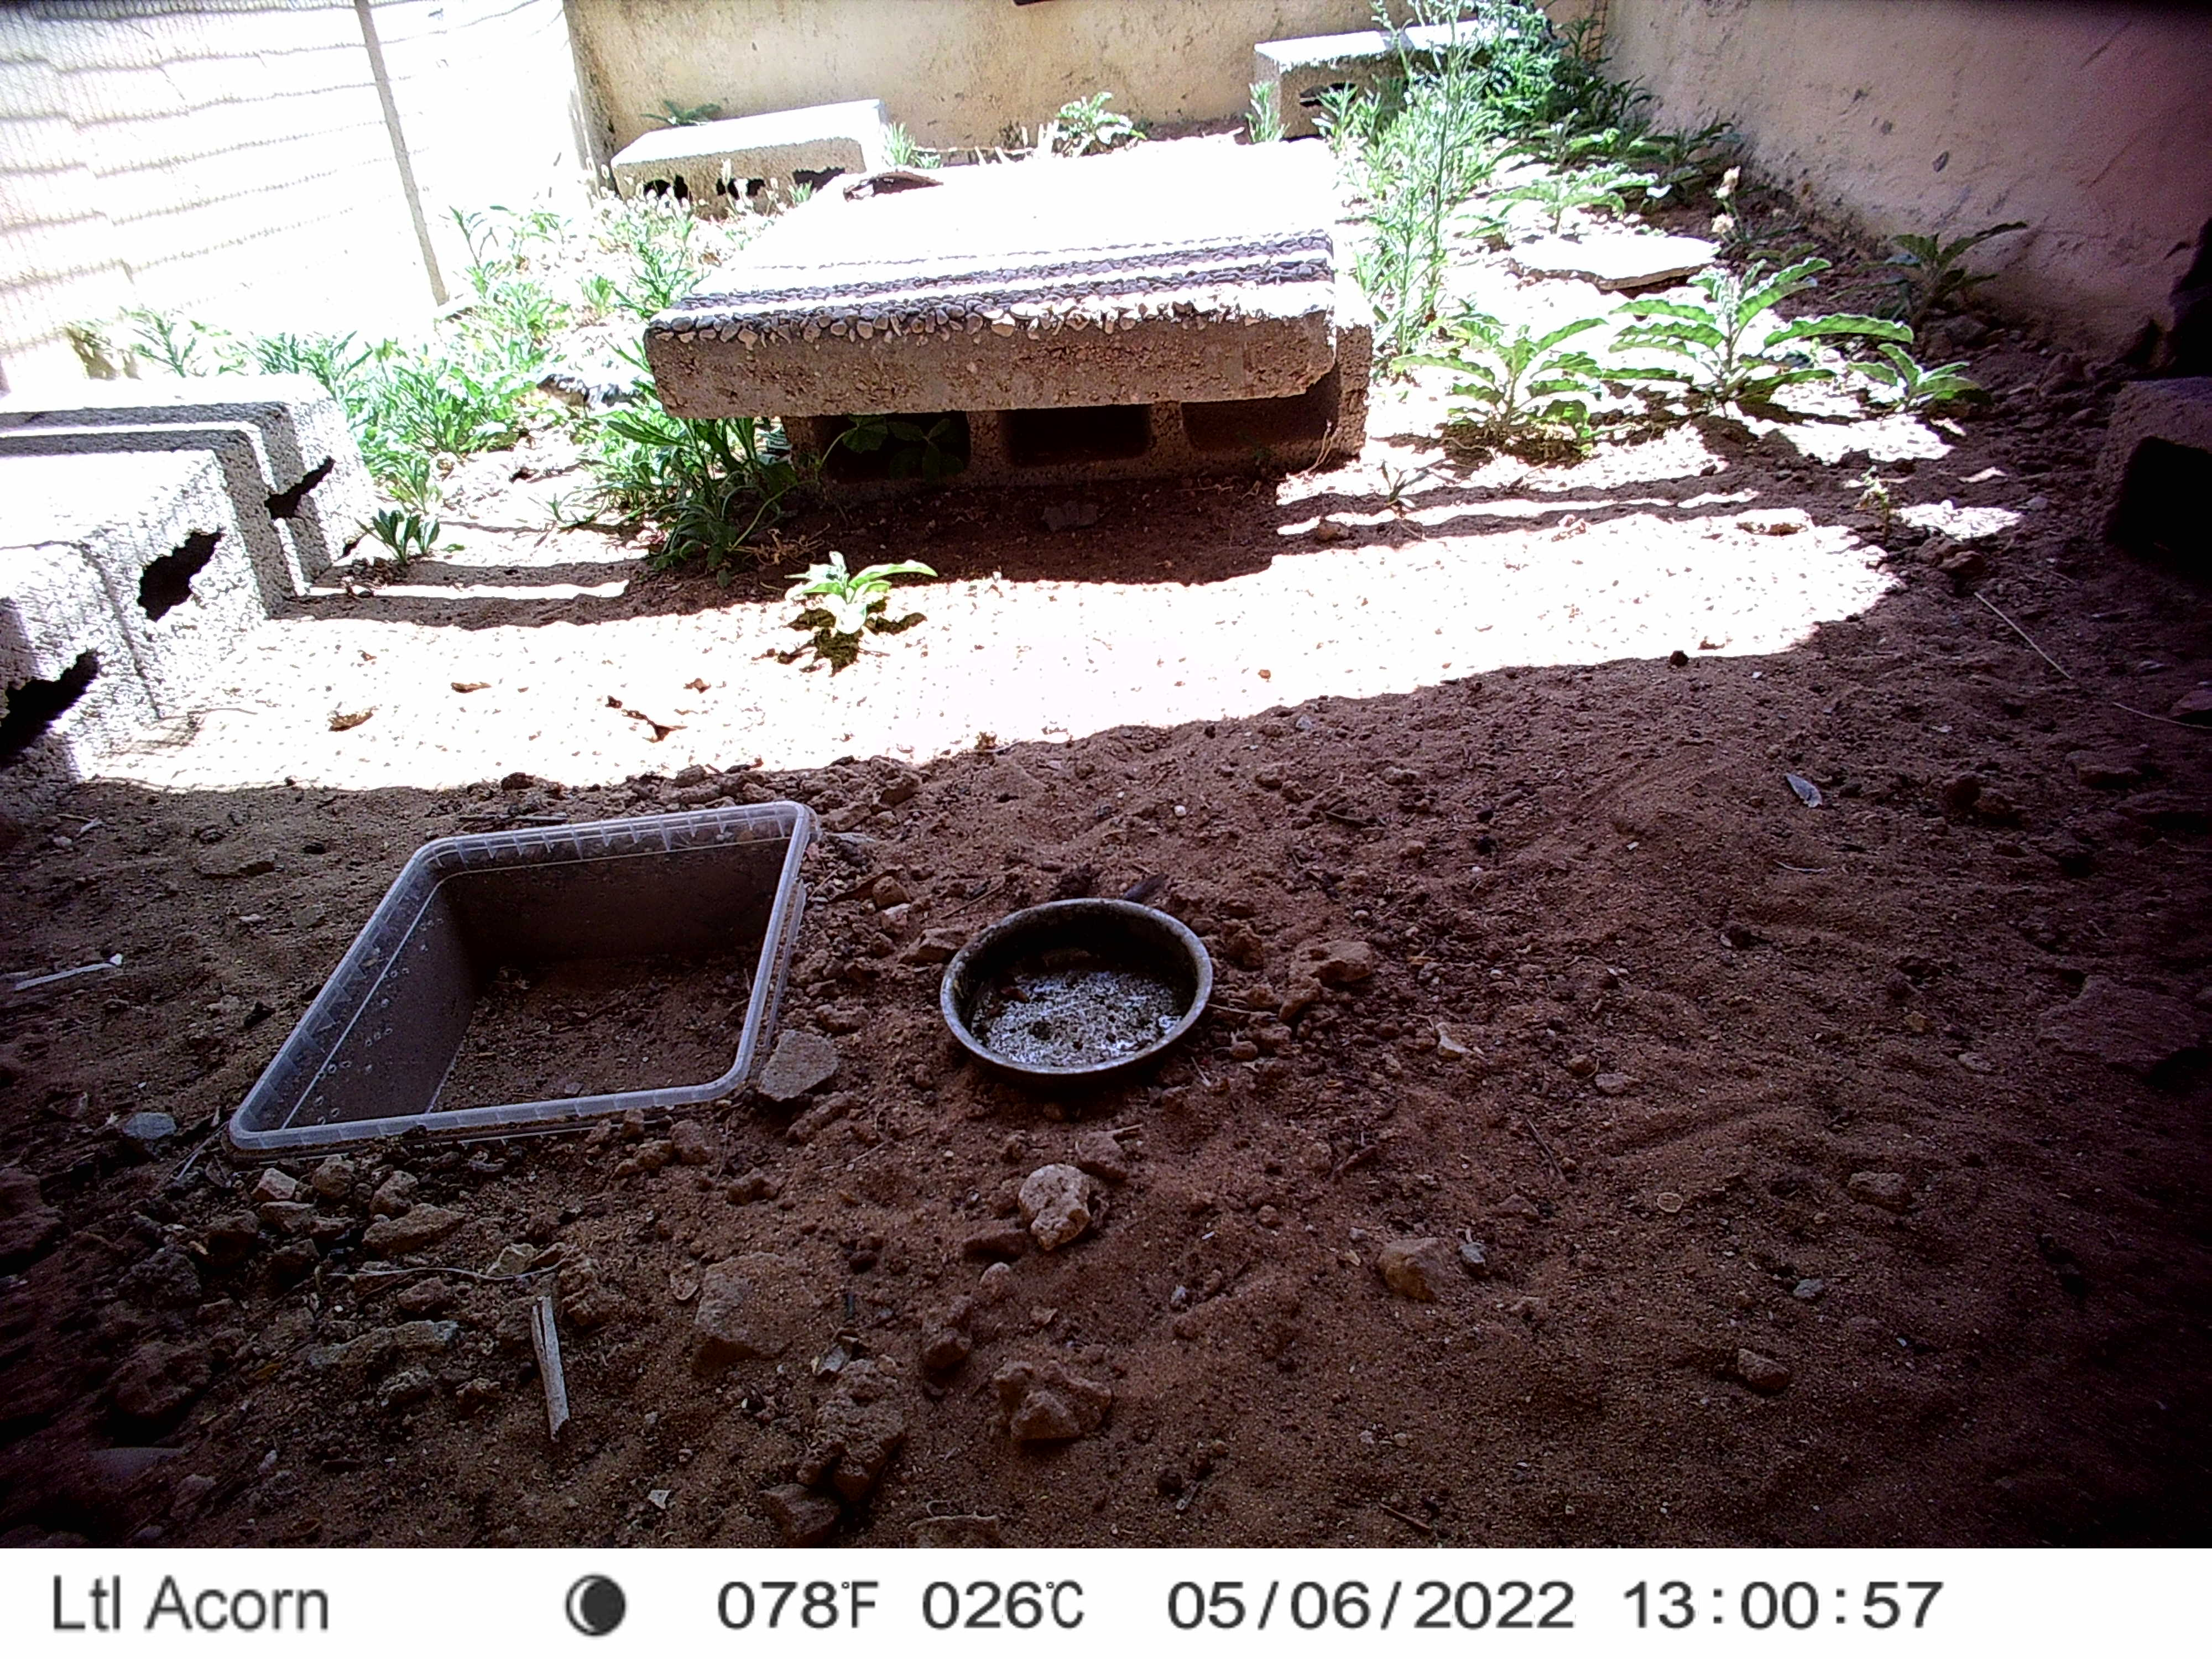lizard: (529, 366, 657, 423)
